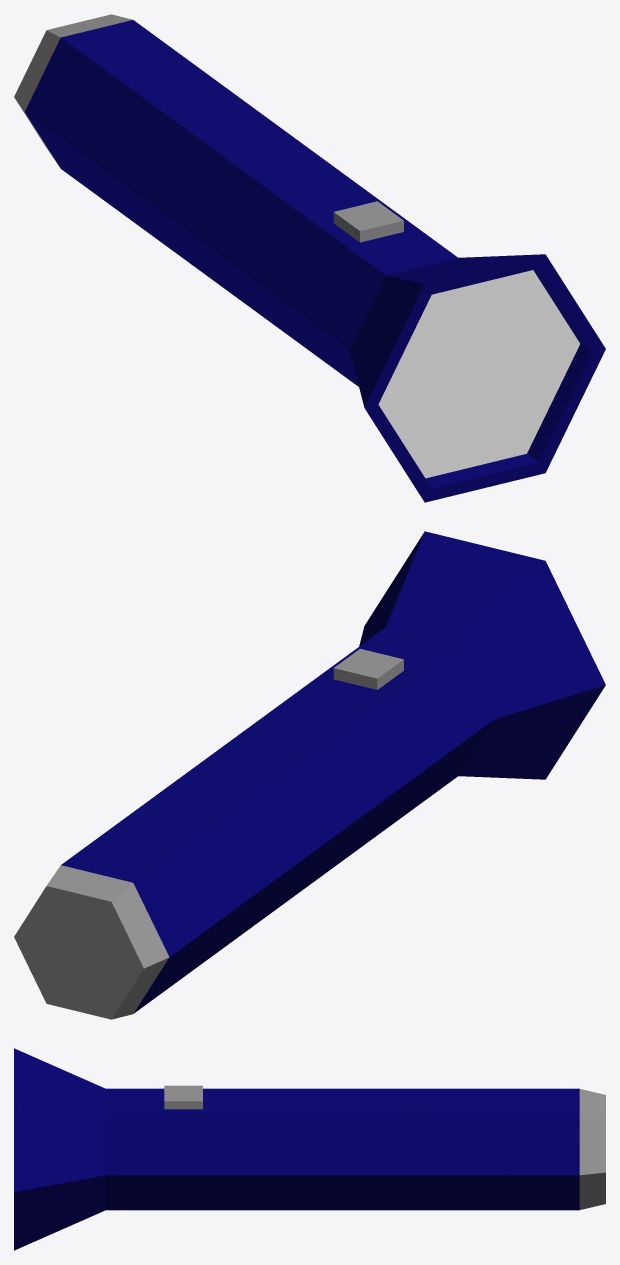
File: flashlight.glb
3 views of the same model, one above another, from view 1: azimuth 30°, elevation 25°; view 2: azimuth 150°, elevation 25°; view 3: azimuth 270°, elevation 25° (orthographic). The views are drawn at different scales.
Parts seen in each view (by area): view 1: Cilindro; view 2: Cilindro; view 3: Cilindro.
Part boxes in pixels (x1,y1,x2,y2): Cilindro: [14, 14, 605, 502]; Cilindro: [14, 531, 605, 1019]; Cilindro: [14, 1048, 605, 1250].
Size of the model in its own units: 3.33 by 2.89 by 9.71.
Materials: 1 (1 with a texture image).
